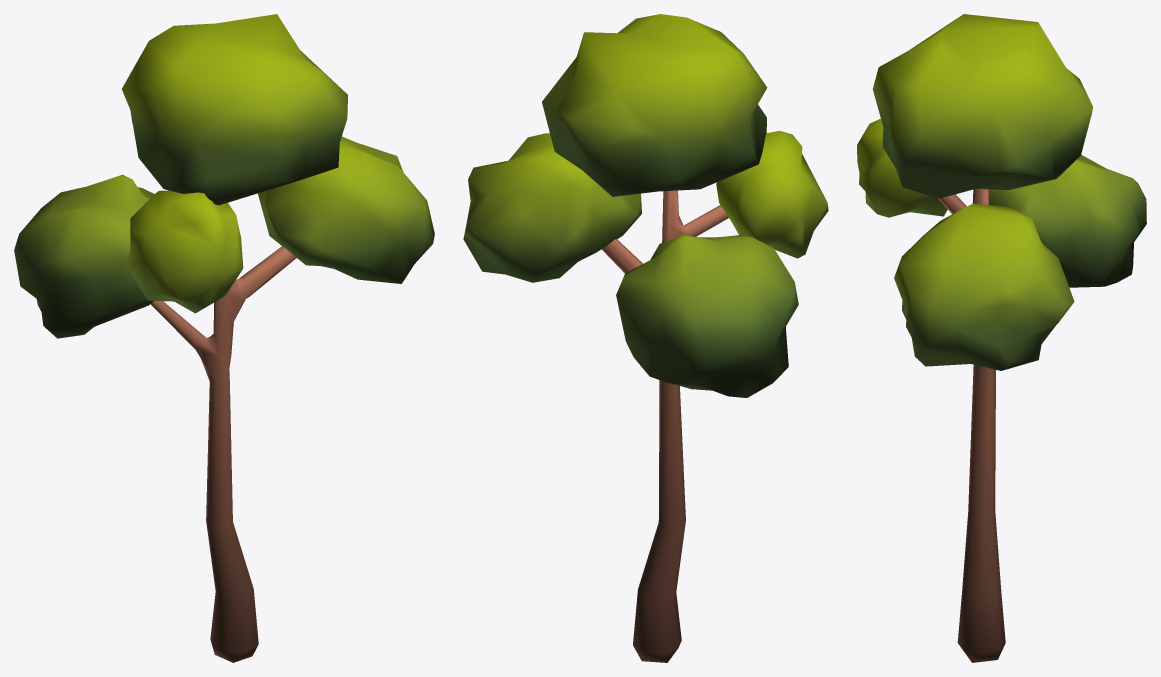
File: Tree4.fbx
3 views of the same model, side by side, from view 1: azimuth 30°, elevation 25°; view 2: azimuth 150°, elevation 25°; view 3: azimuth 270°, elevation 25° (orthographic).
Visible parts, largest first — view 1: Tree4.001; view 2: Tree4.001; view 3: Tree4.001.
Part boxes in pixels (x1=…): Tree4.001: x1=14, y1=14, x2=434, y2=662; Tree4.001: x1=463, y1=14, x2=828, y2=662; Tree4.001: x1=857, y1=14, x2=1146, y2=662.
Bounding box in the file's own units: 913 × 1589 × 669.
